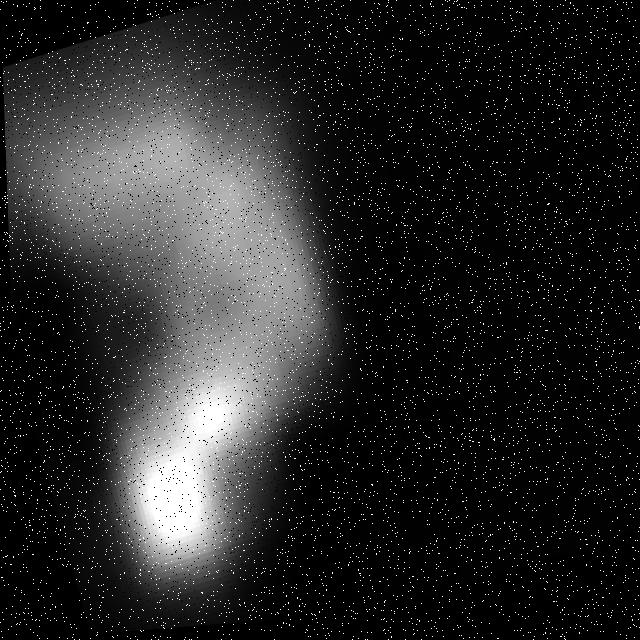person: (1, 1, 409, 624)
